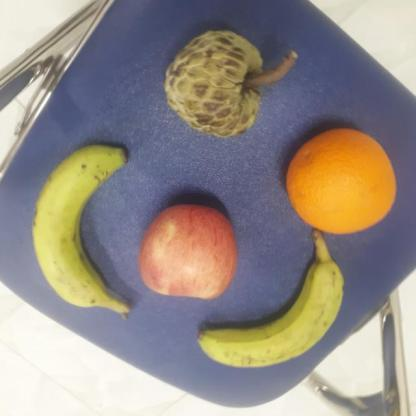annona: (164, 30, 264, 138)
apple: (136, 198, 240, 301)
banana: (197, 254, 346, 372), (37, 142, 133, 318)
orange: (285, 127, 399, 238)
